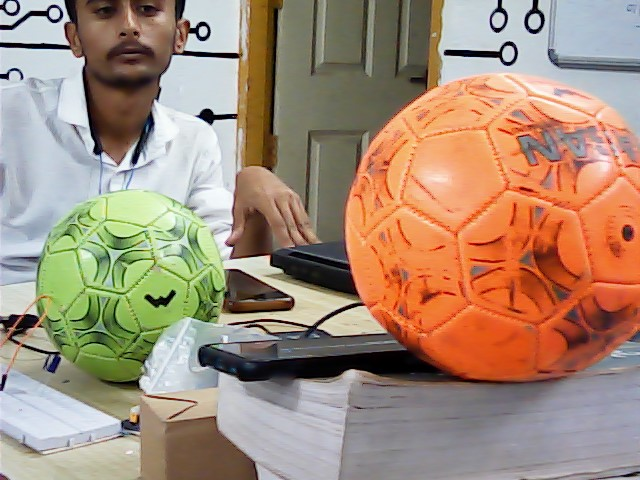Green_ball: (33, 187, 229, 378)
Orange_ball: (339, 66, 640, 383)
